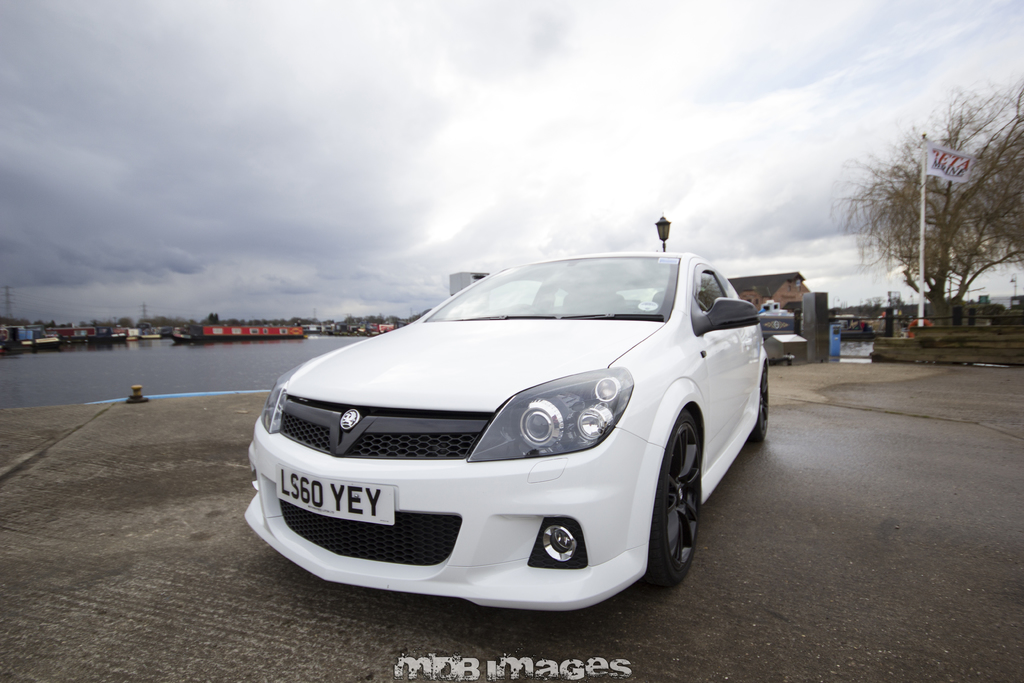Car: (240, 230, 775, 608)
